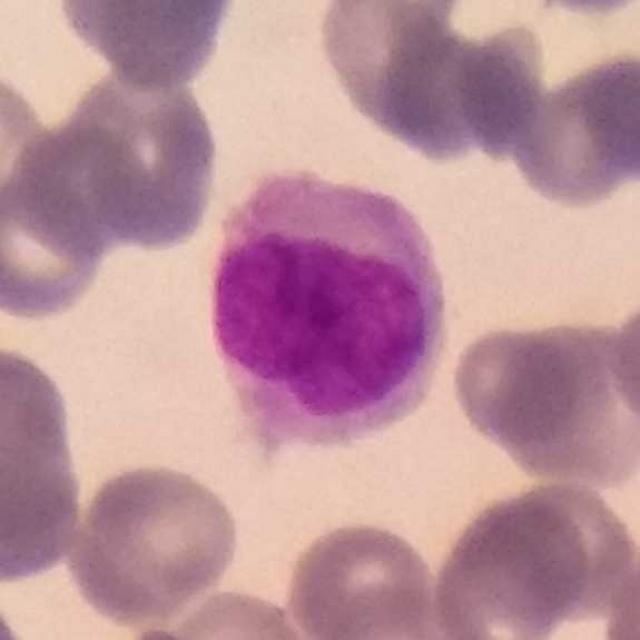mono: (212, 157, 456, 462)
